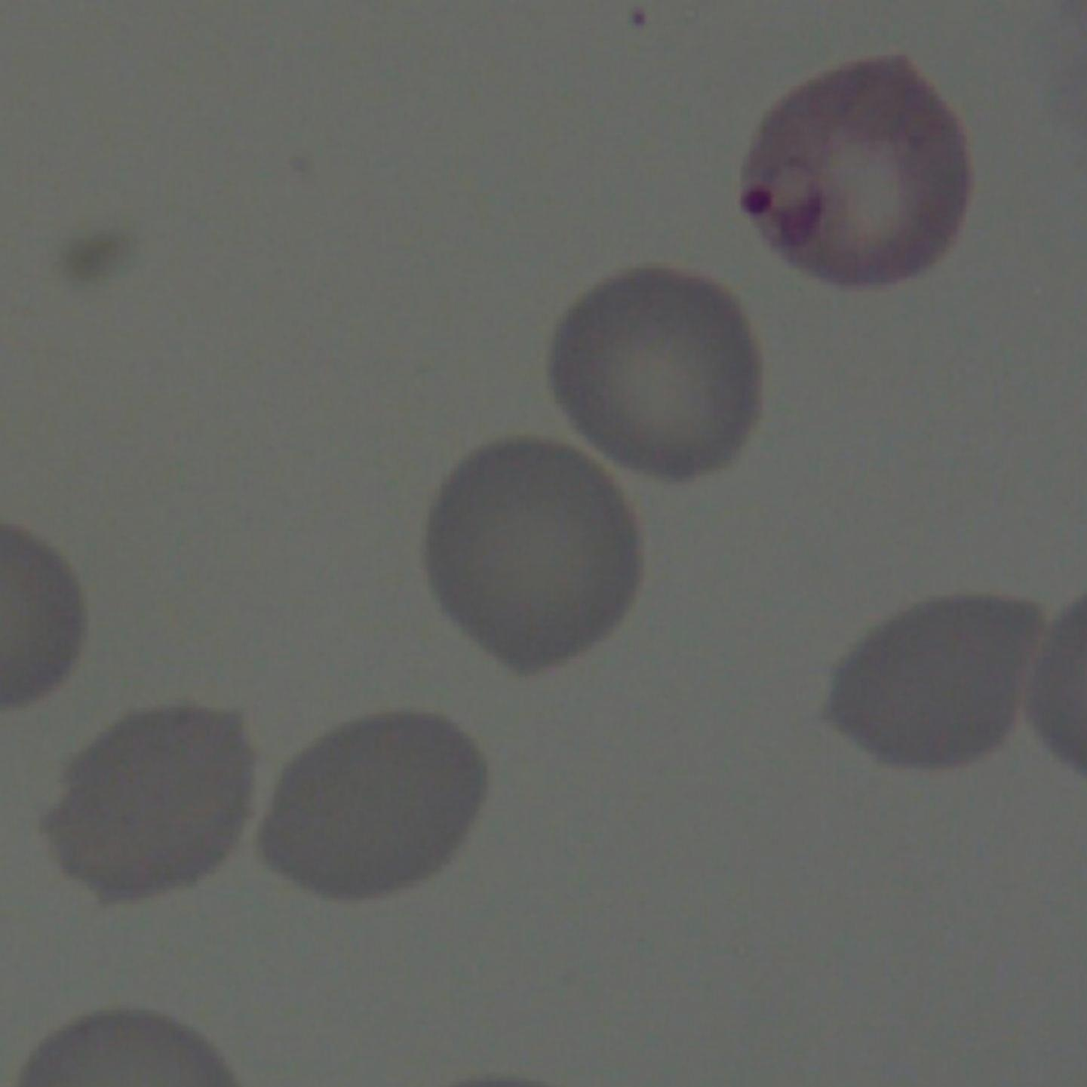Infected: (742, 49, 976, 295)
Uninfected: (422, 433, 645, 679), (259, 707, 495, 907), (553, 267, 764, 480), (43, 700, 258, 904), (820, 592, 1046, 765)
